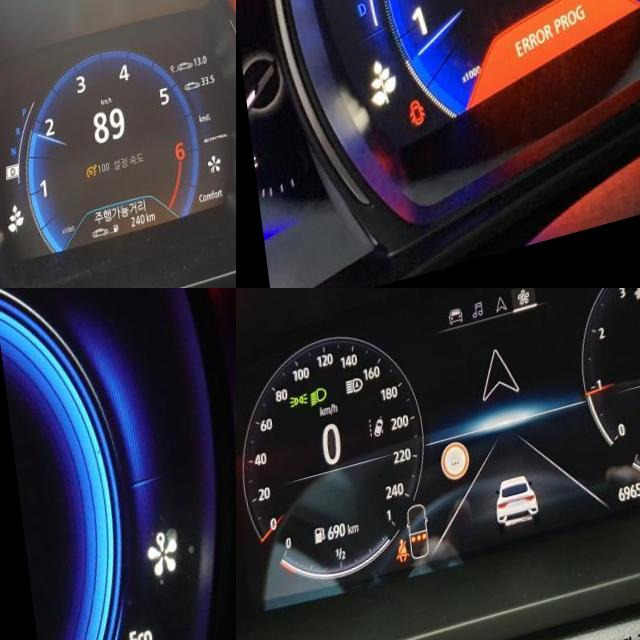Doors: (393, 106, 412, 136)
Low beam: (300, 393, 320, 417)
SideLamp: (281, 399, 301, 417)
